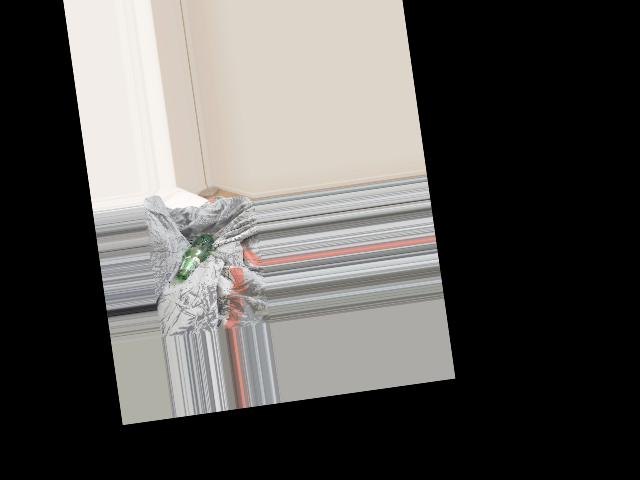beer: (171, 234, 218, 281)
